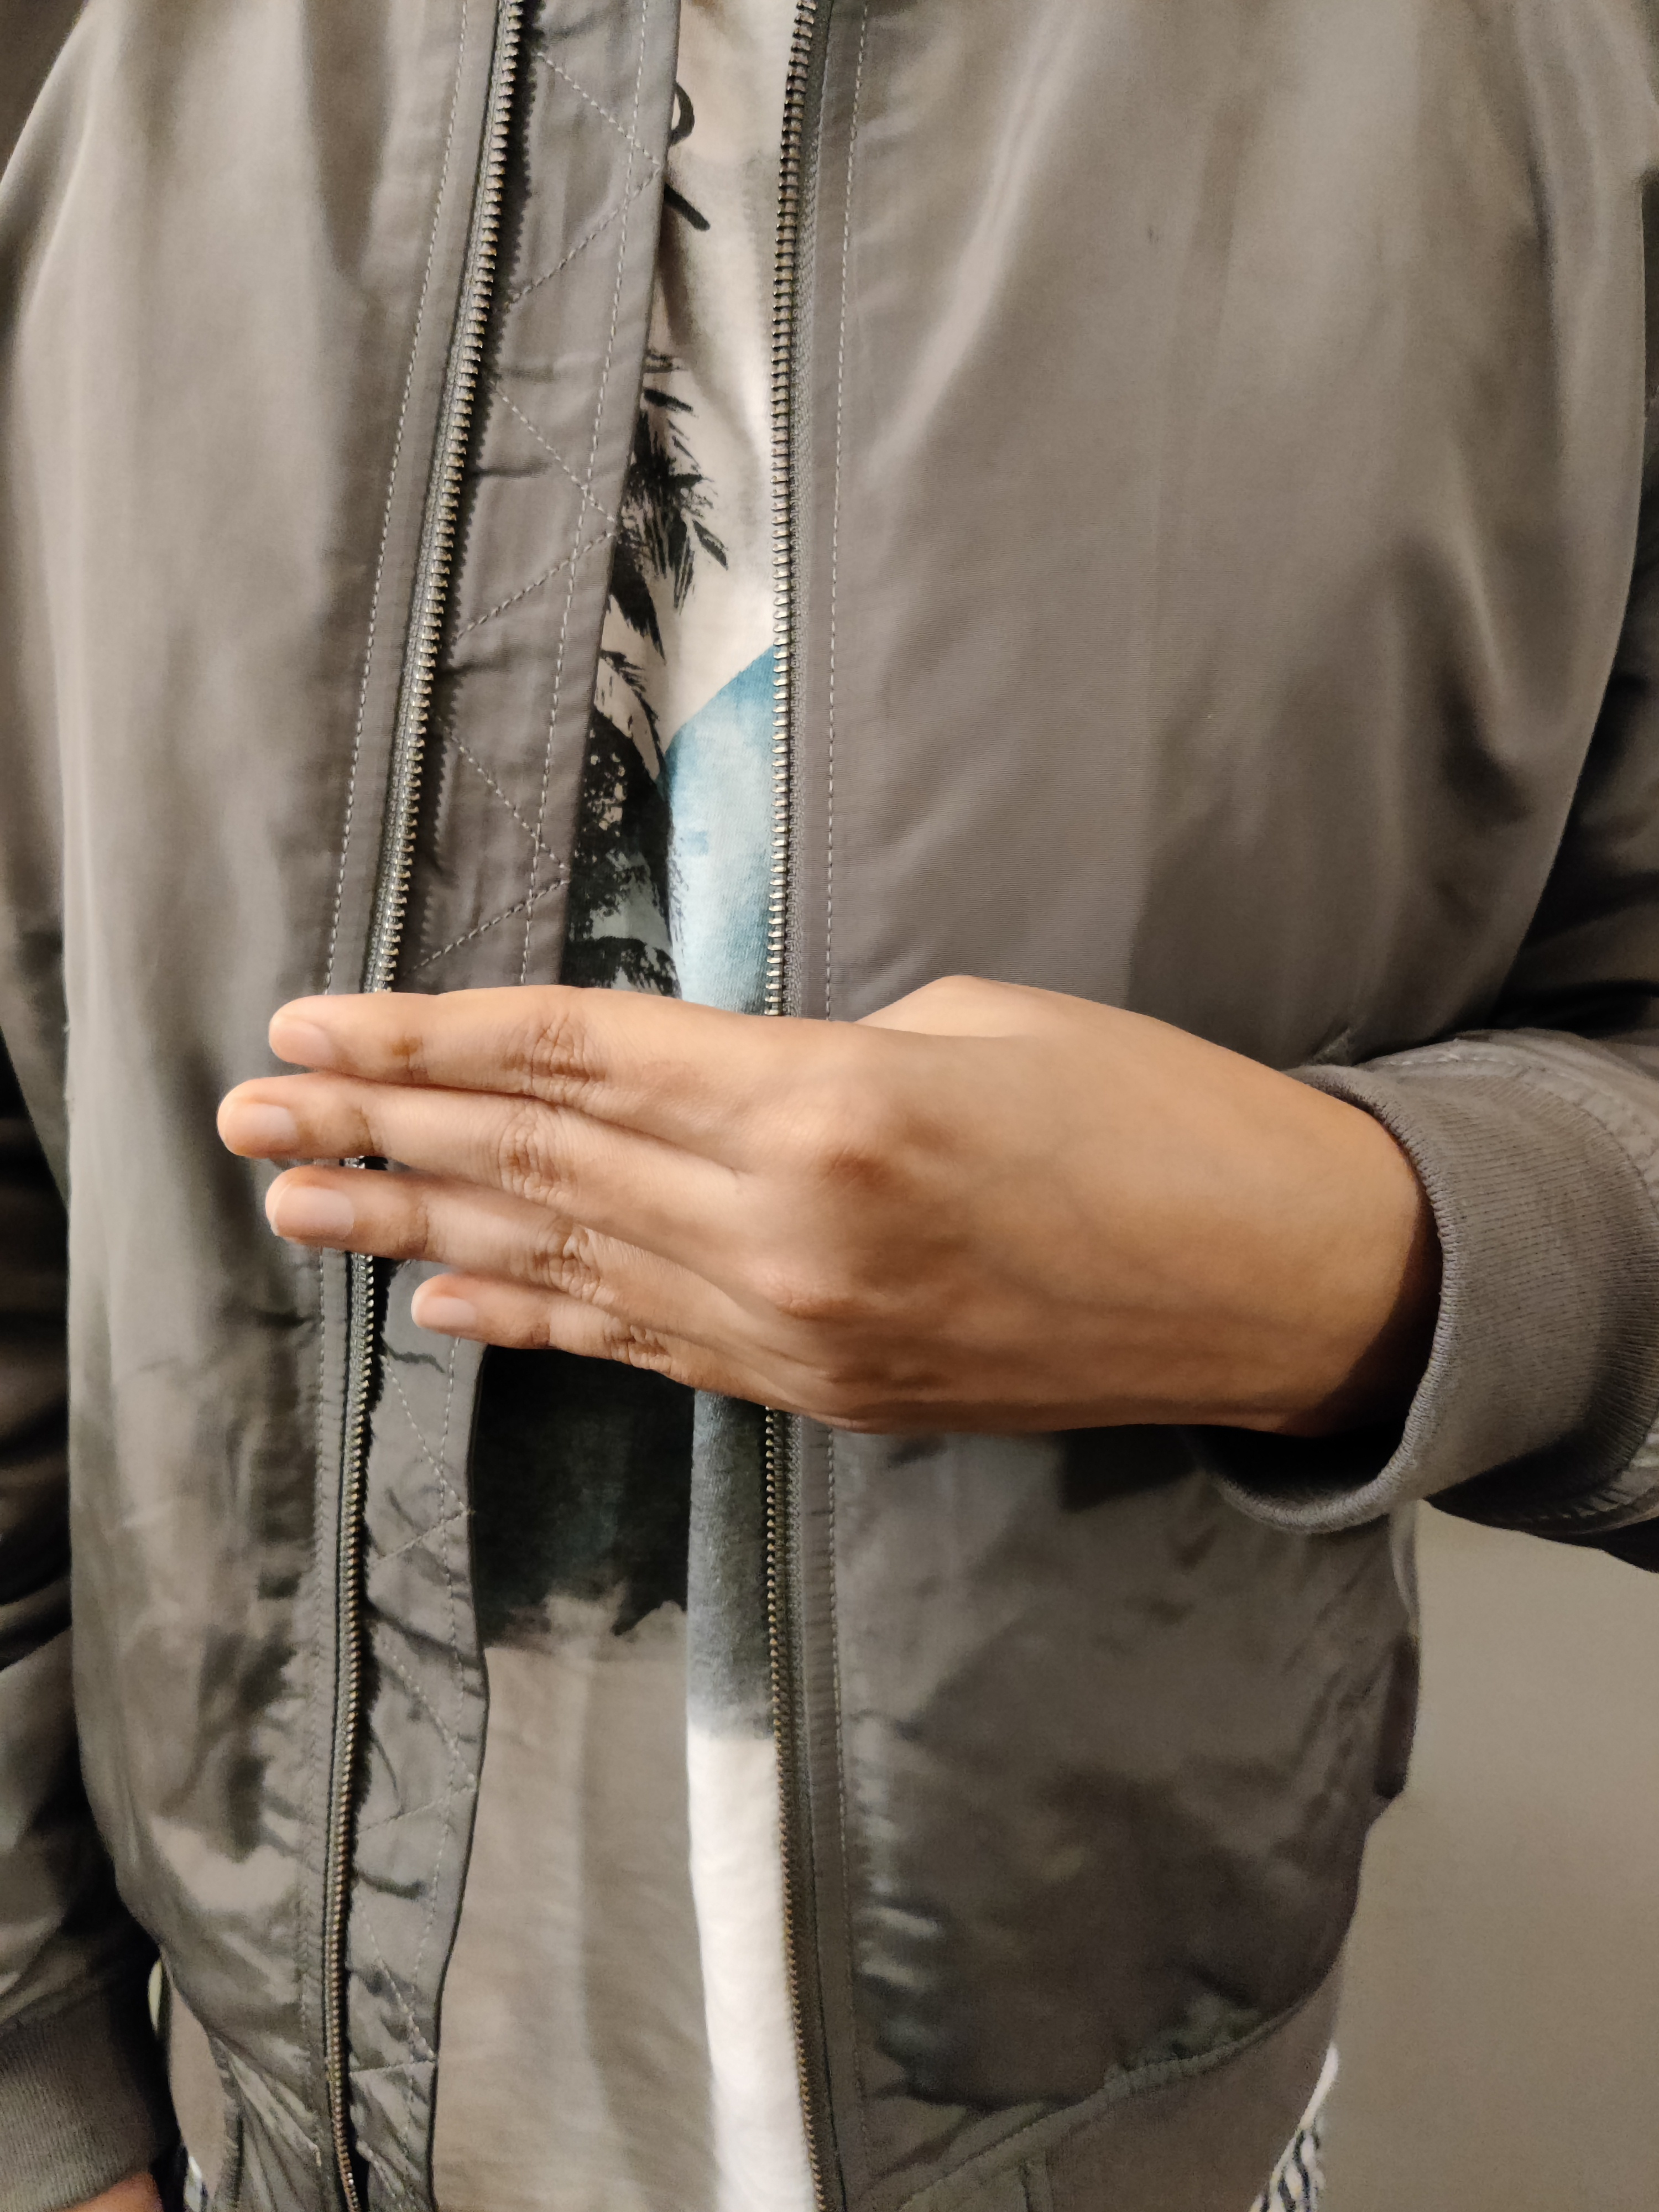right: (134, 737, 1535, 1717)
